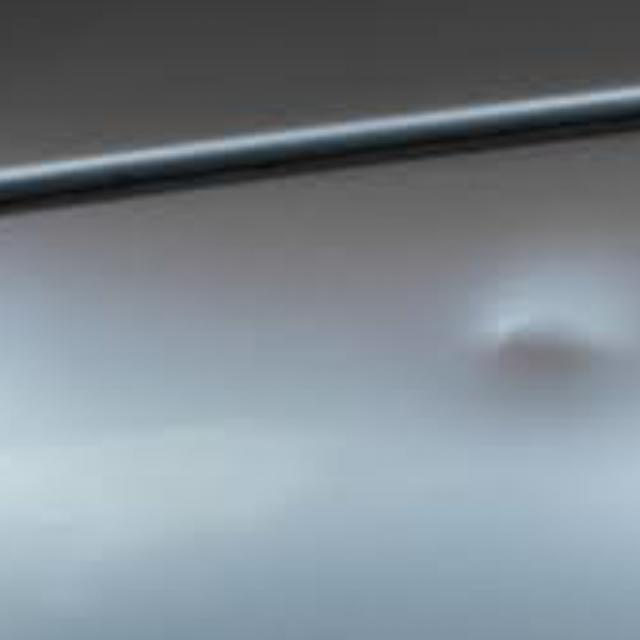dents: (440, 289, 640, 435)
